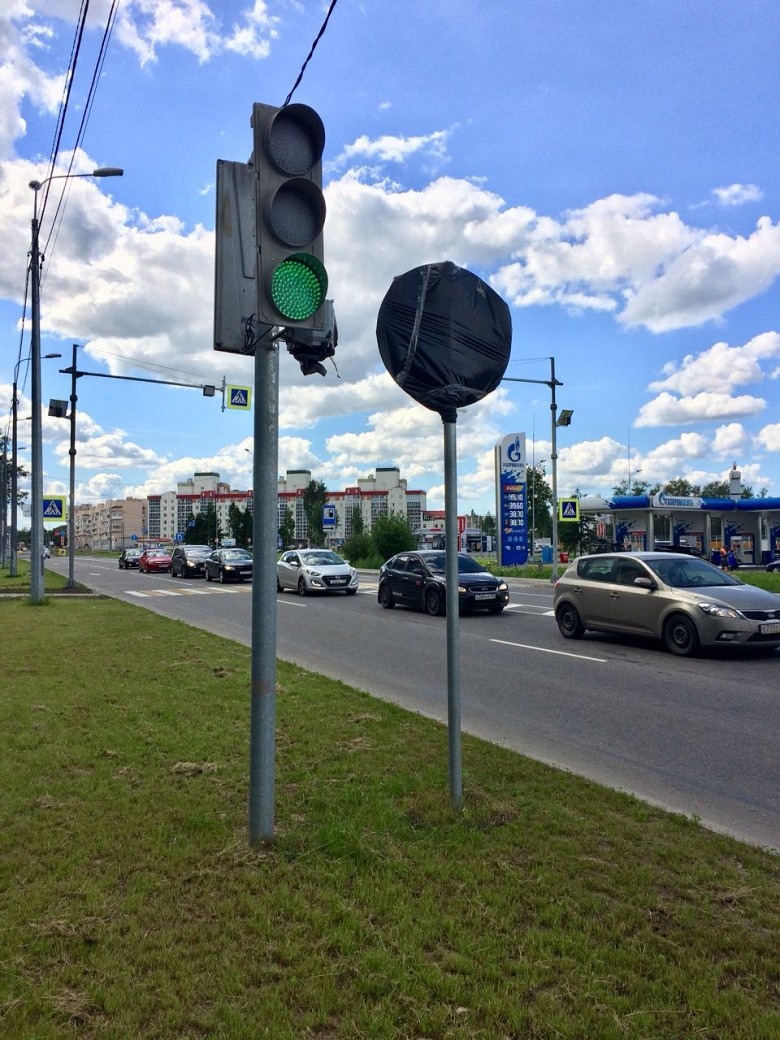tl: (253, 96, 337, 333)
